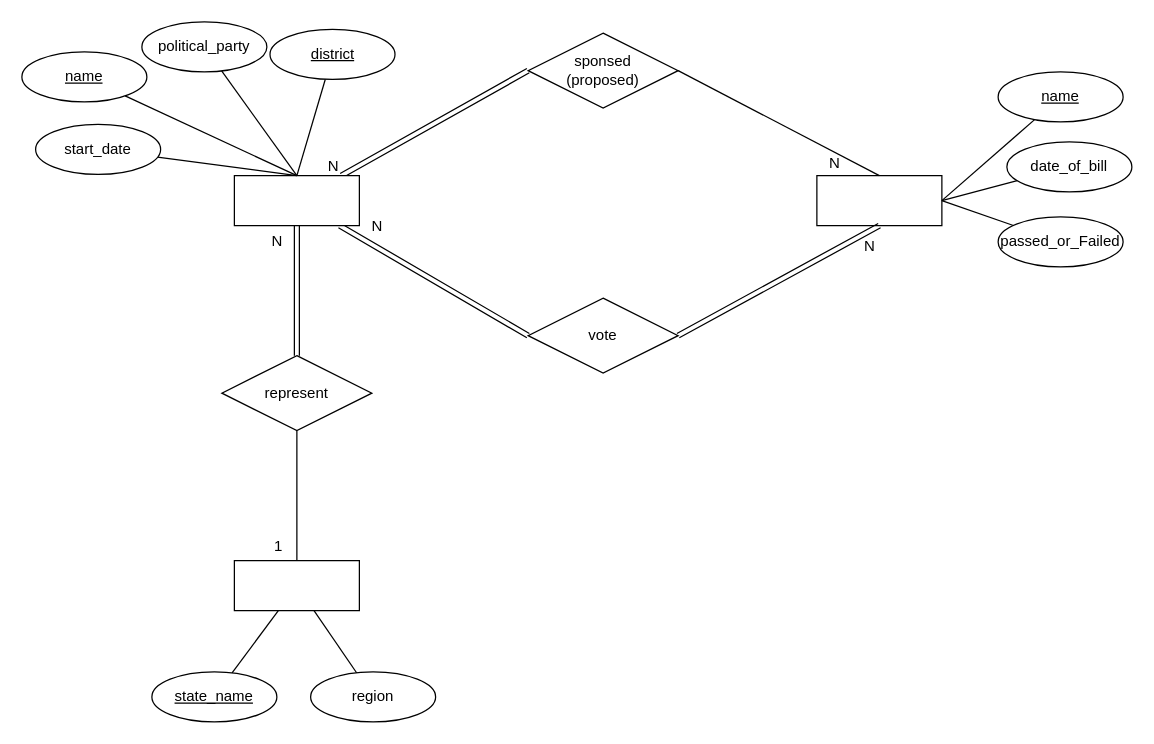
Image size: 1154x744. Some labels were removed from this diagram. The centre of each missing label's shape, as x and y in pixels:
Bill: the point at 879,200
CongressPerson: the point at 296,200
State: the point at 296,585
